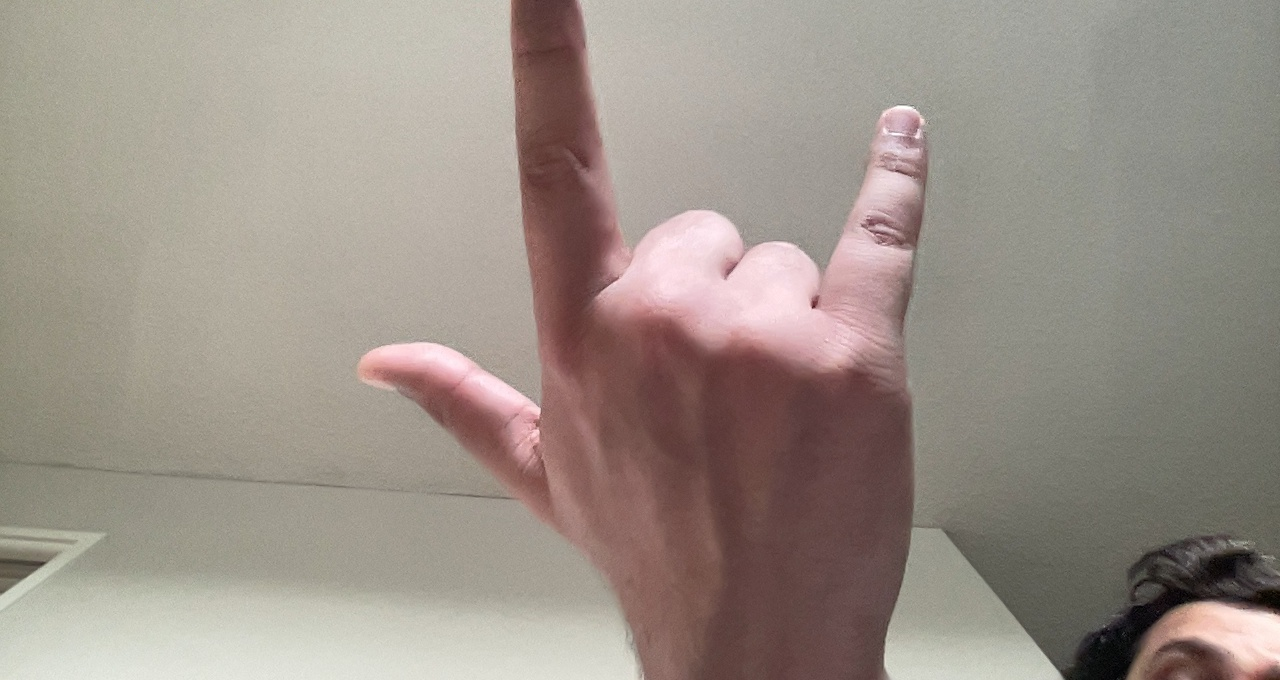rockon sign: (347, 4, 937, 658)
